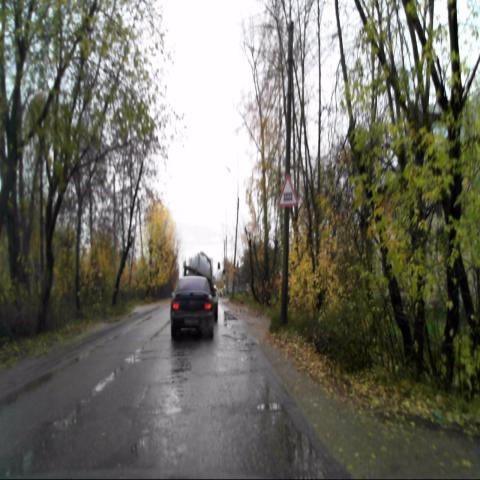1_1: (278, 172, 299, 206)
